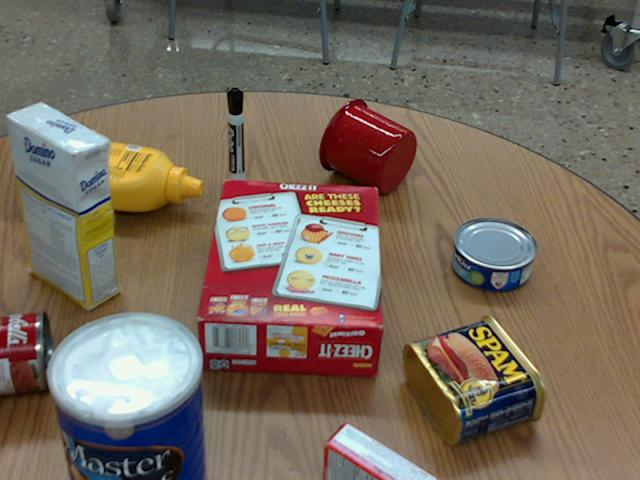cracker_box: (196, 182, 382, 373)
gelatin_box: (321, 421, 439, 479)
large_marker: (226, 87, 243, 185)
master_chef_can: (44, 311, 204, 479)
mug: (318, 98, 416, 193)
mustard_bottle: (16, 133, 201, 211)
potted_meat_can: (404, 314, 545, 445)
sugar_box: (7, 102, 115, 309)
tomato_soup_can: (0, 309, 52, 392)
tuna_fish_can: (451, 217, 537, 291)
